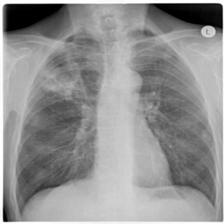tuberculosis: (7, 24, 222, 217)
